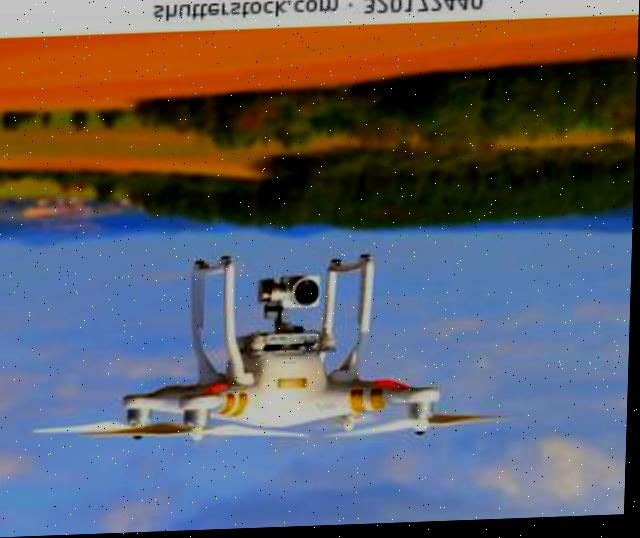drone: (32, 227, 543, 490)
